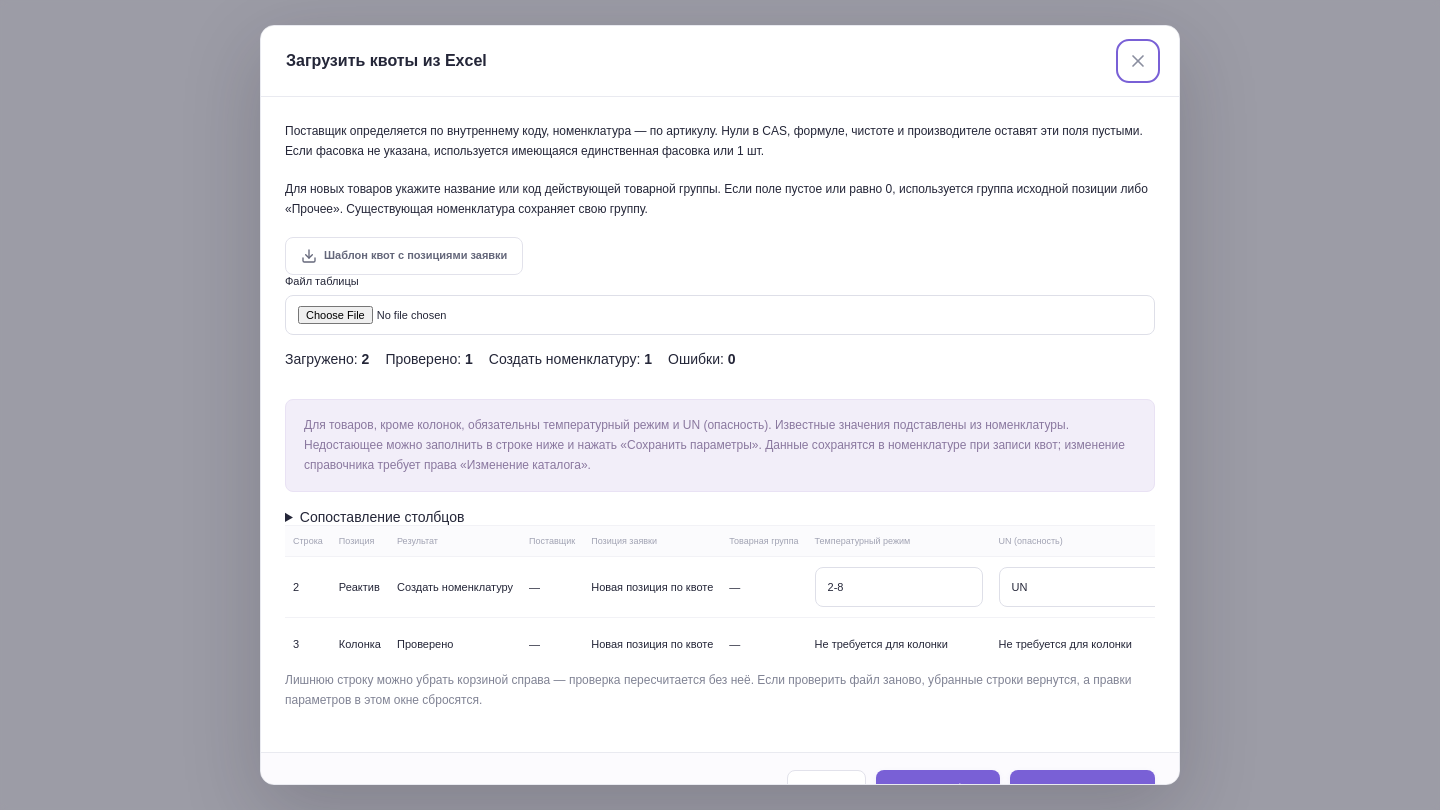
Test: completes mandatory transport values in a legacy quote preview before confirmation
Earlier steps of the test are not shown.
Replace the text in the field named "Температурный режим, строка 2" with "-20": (899, 587) [815,567,983,607]
(page scrolled)
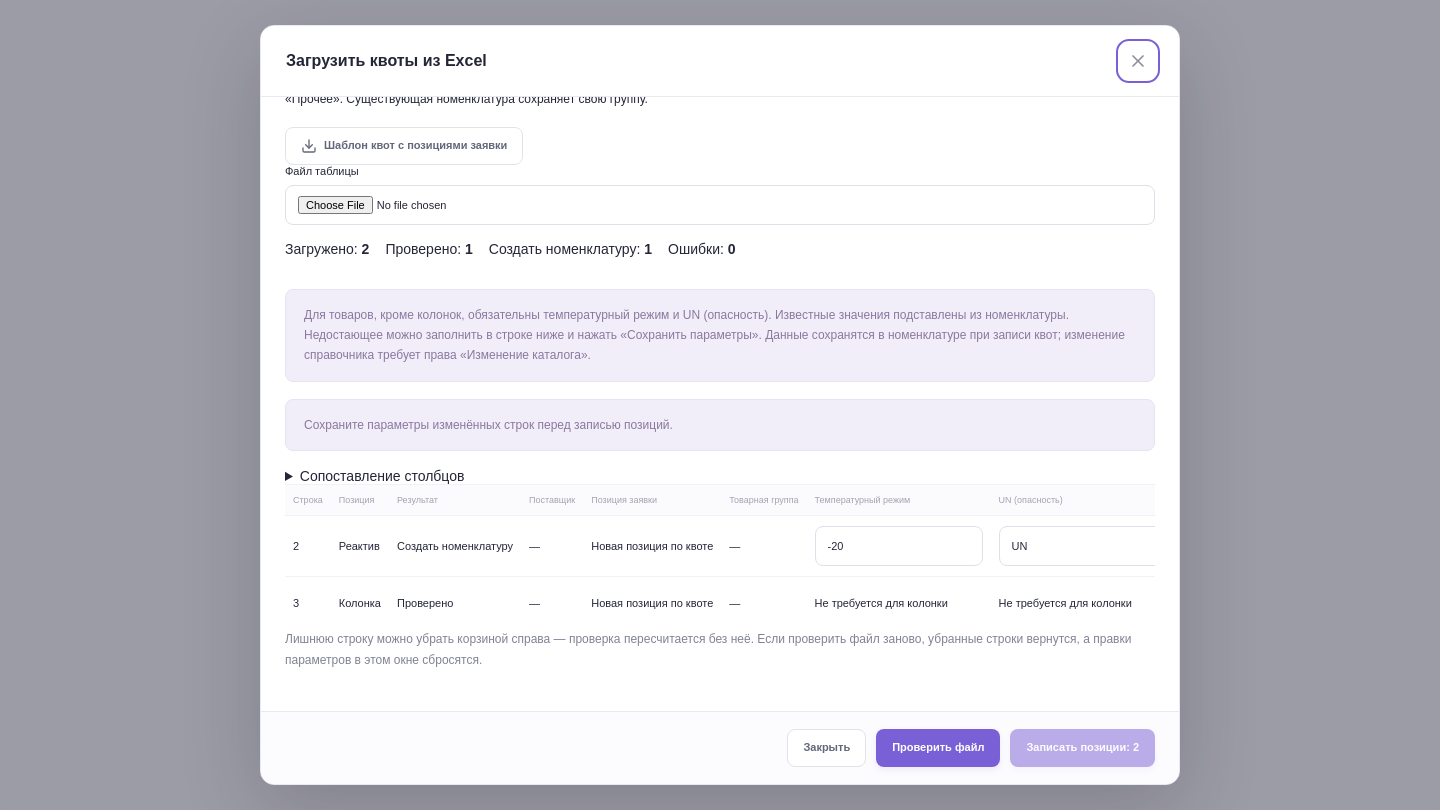
expect the button "Записать позиции: 2" is disabled: met, box [1010,729,1155,767]
